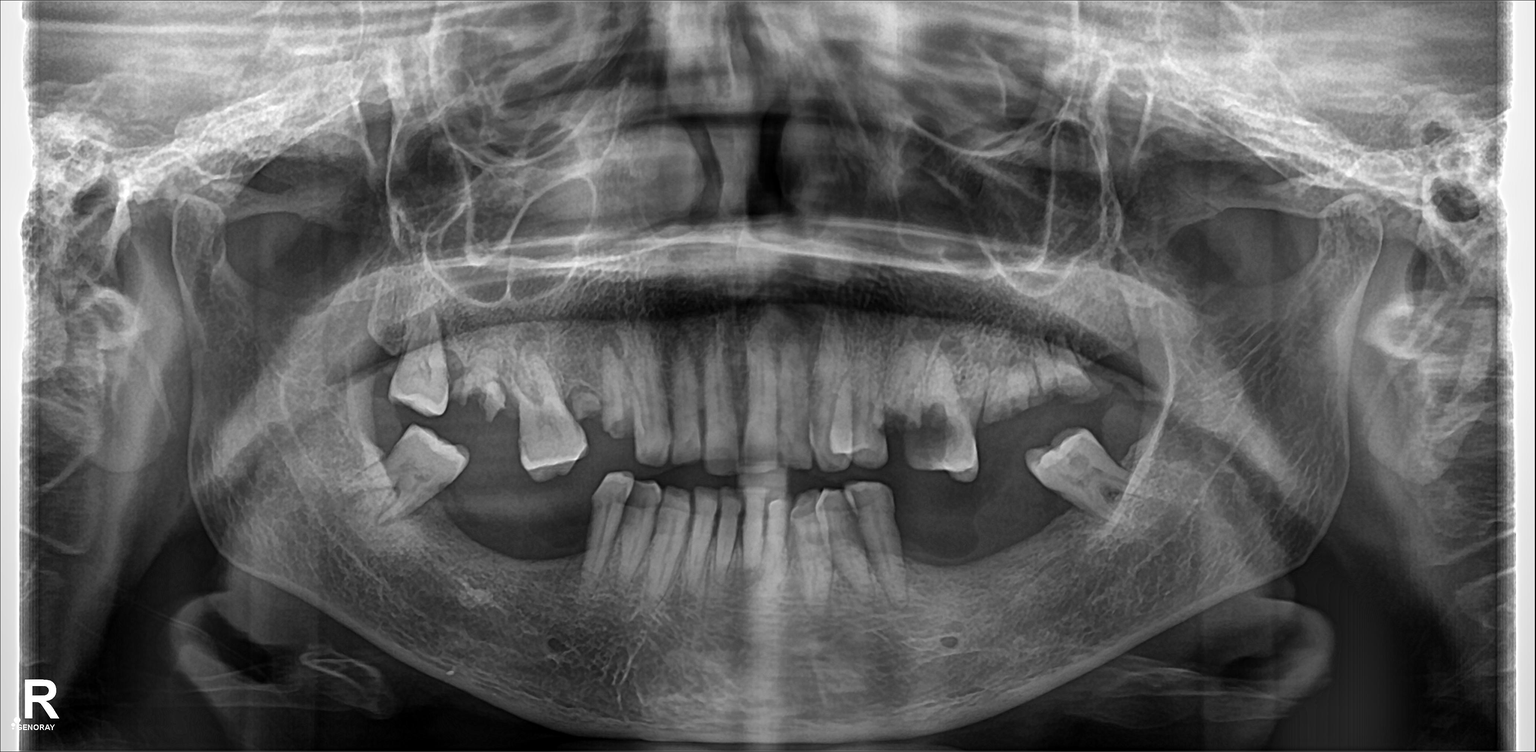Dental Caries: (905, 404, 958, 457)
Missing Tooth: (518, 482, 591, 634), (985, 467, 1050, 584), (1091, 281, 1144, 419), (464, 473, 517, 590), (953, 486, 983, 605), (914, 499, 953, 588), (358, 316, 407, 383), (363, 406, 407, 478), (1117, 424, 1167, 475)
Retained Root: (449, 346, 514, 425), (974, 346, 1015, 454), (602, 339, 638, 448), (1054, 322, 1094, 420), (1028, 322, 1053, 434), (574, 357, 605, 438)
